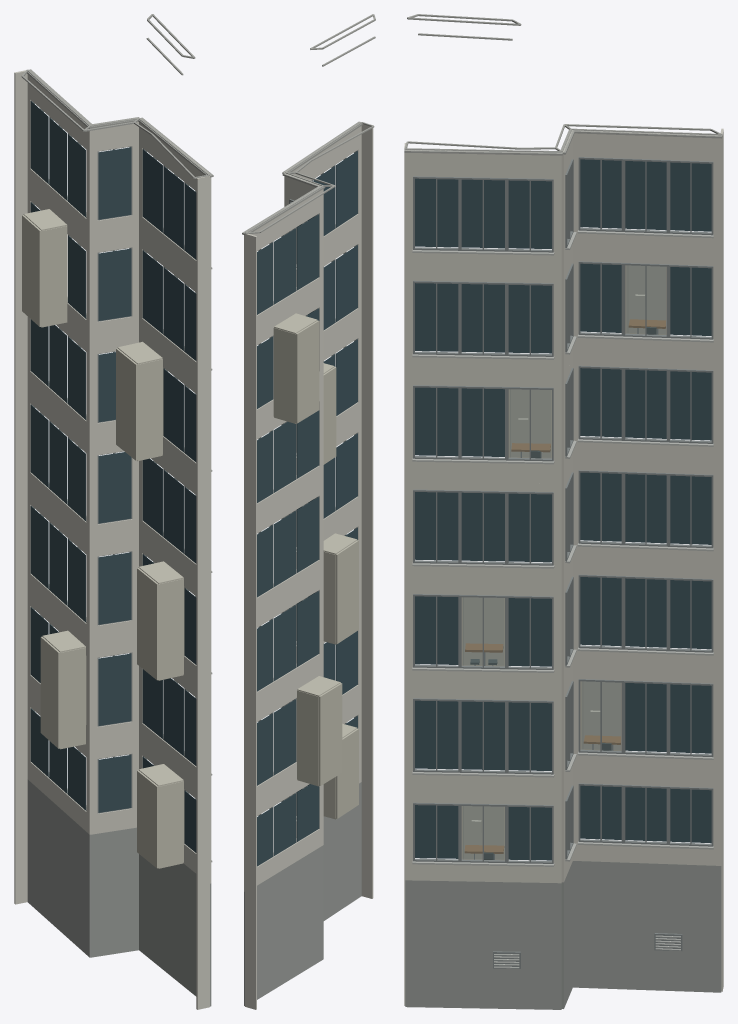
Rendered from east_original.glb.
3 views of the same model, side by side, from view 1: azimuth 30°, elevation 25°; view 2: azimuth 150°, elevation 25°; view 3: azimuth 270°, elevation 25° (orthographic). The views are drawn at different scales.
Visible parts, largest first — view 1: compiled_exact_opaque_material_1, 02_INFERRED_WINDOWS_AND_SPANDRELS_darkglass, compiled_exact_opaque_material_6, 01_EAST_ENVELOPE_SOURCE_ALIGNED_base, compiled_exact_opaque_material_2, 04_MINIMAL_ROOF_EDGES_SOURCE_ALIGNED_roof; view 2: compiled_exact_opaque_material_1, 02_INFERRED_WINDOWS_AND_SPANDRELS_darkglass, compiled_exact_opaque_material_6, 01_EAST_ENVELOPE_SOURCE_ALIGNED_base, 04_MINIMAL_ROOF_EDGES_SOURCE_ALIGNED_roof, compiled_exact_opaque_material_2; view 3: 02_INFERRED_WINDOWS_AND_SPANDRELS_darkglass, compiled_exact_opaque_material_1, 01_EAST_ENVELOPE_SOURCE_ALIGNED_base, compiled_exact_opaque_material_2, 02_INFERRED_WINDOWS_AND_SPANDRELS_glass, compiled_exact_opaque_material_6, 02_INFERRED_WINDOWS_AND_SPANDRELS_sill, 04_MINIMAL_ROOF_EDGES_SOURCE_ALIGNED_roof, 03_INFERRED_SHALLOW_COMMERCIAL_INTERIORS_wood.
Boxes of the visible parts, left/top/right/bottom form: compiled_exact_opaque_material_1: left=14, top=70, right=211, bottom=1009; 02_INFERRED_WINDOWS_AND_SPANDRELS_darkglass: left=30, top=101, right=196, bottom=852; compiled_exact_opaque_material_6: left=22, top=209, right=184, bottom=868; 01_EAST_ENVELOPE_SOURCE_ALIGNED_base: left=27, top=779, right=211, bottom=1006; compiled_exact_opaque_material_2: left=31, top=100, right=196, bottom=843; 04_MINIMAL_ROOF_EDGES_SOURCE_ALIGNED_roof: left=21, top=14, right=213, bottom=178; compiled_exact_opaque_material_1: left=244, top=123, right=373, bottom=1009; 02_INFERRED_WINDOWS_AND_SPANDRELS_darkglass: left=257, top=151, right=357, bottom=866; compiled_exact_opaque_material_6: left=273, top=313, right=358, bottom=819; 01_EAST_ENVELOPE_SOURCE_ALIGNED_base: left=244, top=782, right=361, bottom=1005; 04_MINIMAL_ROOF_EDGES_SOURCE_ALIGNED_roof: left=242, top=14, right=375, bottom=235; compiled_exact_opaque_material_2: left=257, top=150, right=357, bottom=866; 02_INFERRED_WINDOWS_AND_SPANDRELS_darkglass: left=415, top=159, right=711, bottom=860; compiled_exact_opaque_material_1: left=404, top=128, right=723, bottom=1005; 01_EAST_ENVELOPE_SOURCE_ALIGNED_base: left=405, top=861, right=721, bottom=1009; compiled_exact_opaque_material_2: left=413, top=157, right=713, bottom=968; 02_INFERRED_WINDOWS_AND_SPANDRELS_glass: left=463, top=265, right=665, bottom=859; compiled_exact_opaque_material_6: left=461, top=265, right=666, bottom=860; 02_INFERRED_WINDOWS_AND_SPANDRELS_sill: left=412, top=230, right=713, bottom=968; 04_MINIMAL_ROOF_EDGES_SOURCE_ALIGNED_roof: left=404, top=14, right=722, bottom=155; 03_INFERRED_SHALLOW_COMMERCIAL_INTERIORS_wood: left=464, top=319, right=665, bottom=853.
Size of the model in its own units: 2.76 by 32.91 by 9.71.
